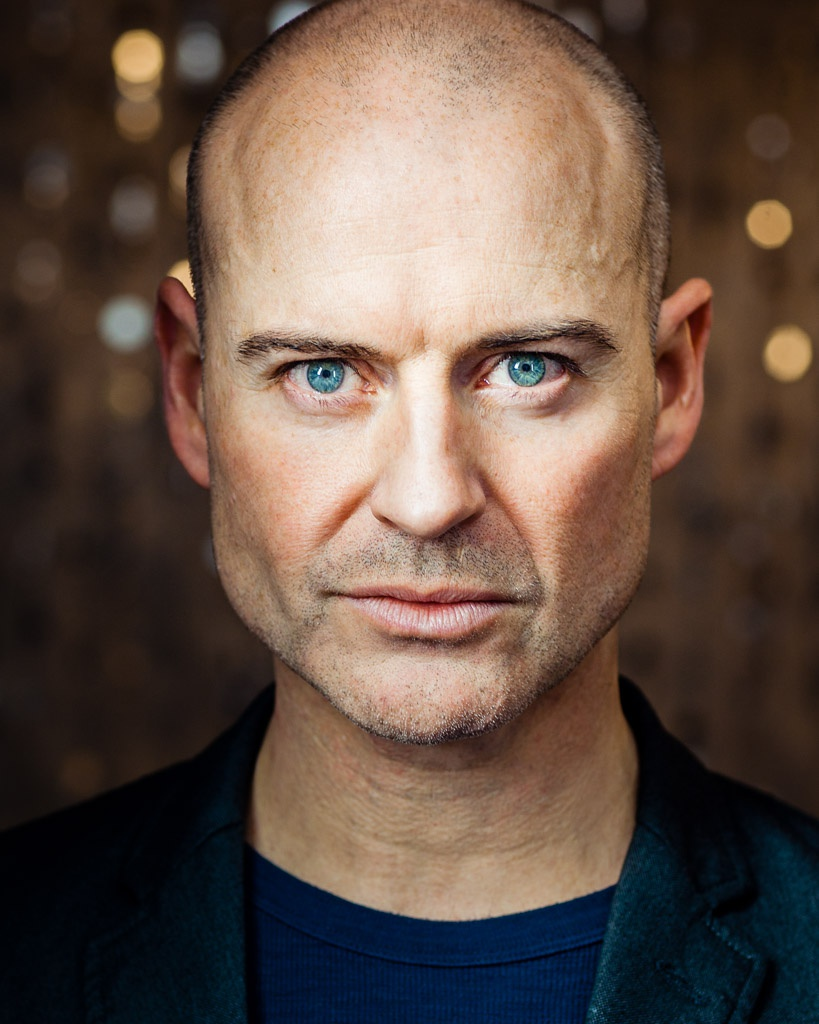bad: (194, 246, 656, 708)
